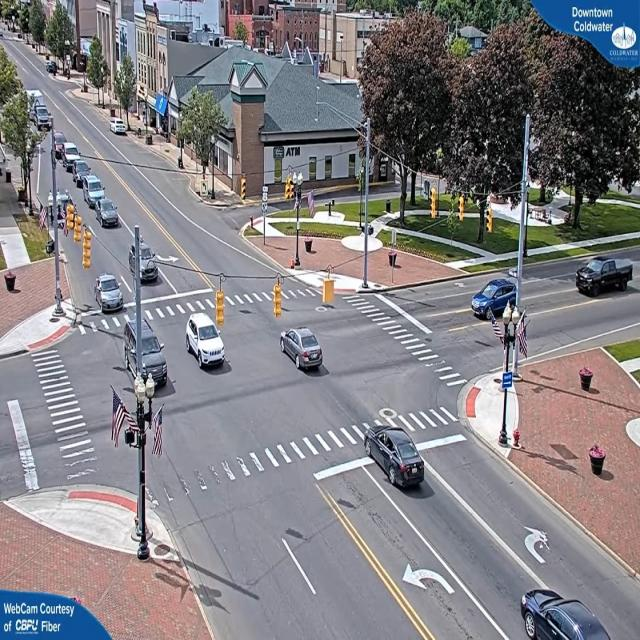car: (520, 590, 615, 640), (365, 425, 429, 492), (186, 312, 228, 370), (573, 257, 633, 297), (282, 327, 324, 375), (473, 279, 518, 323), (96, 274, 124, 312), (95, 198, 120, 227), (110, 119, 129, 136)
